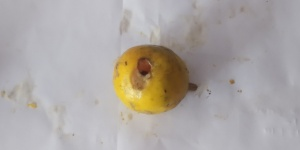BAD: (114, 45, 190, 115)
